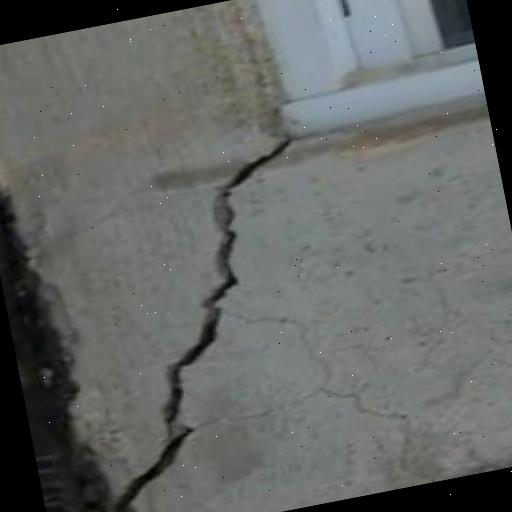spalling: (106, 137, 299, 512)
